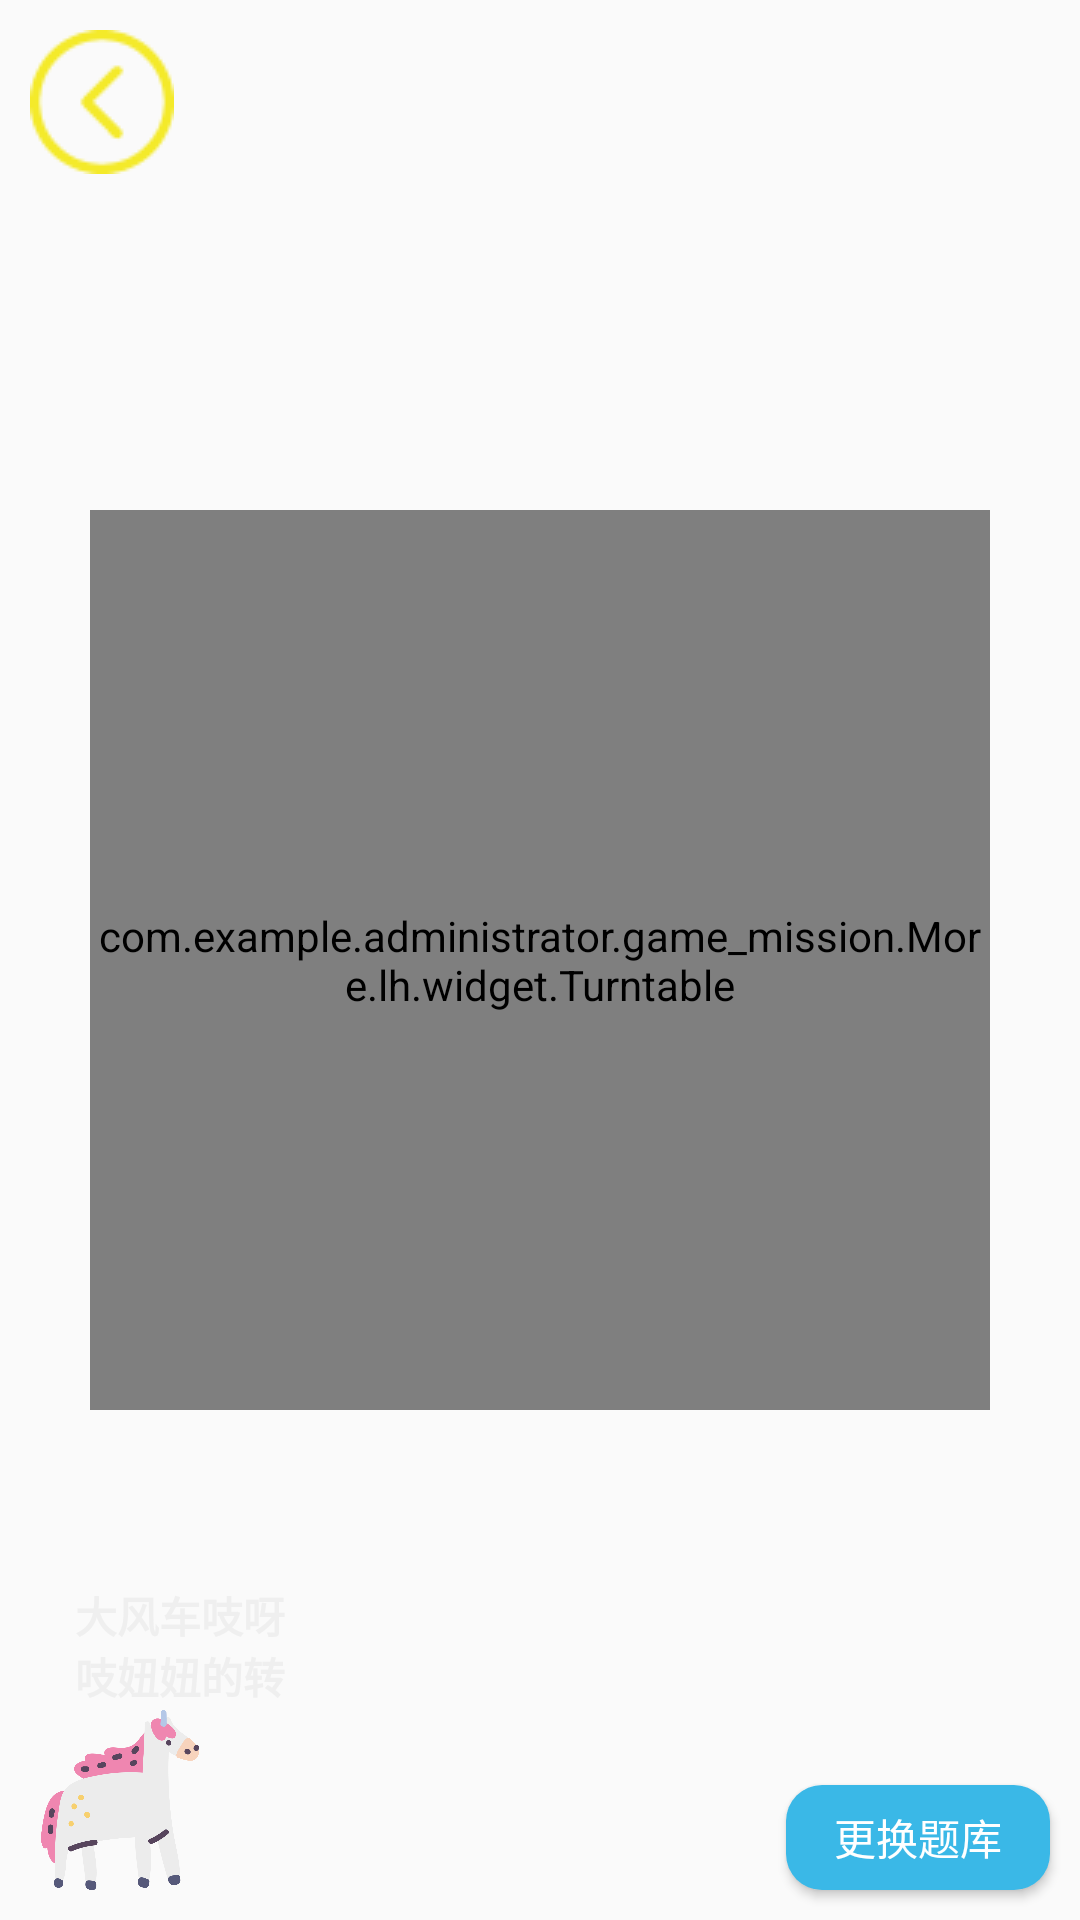

Named icons in this screenshot (1080*1920) and their centers, (x=x, y=y):
back: (x=102, y=102)
dujiaoshou: (x=120, y=1800)
